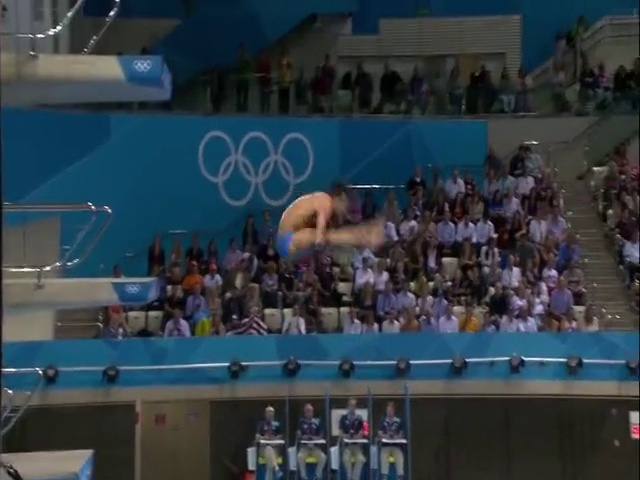diver: (274, 185, 389, 259)
